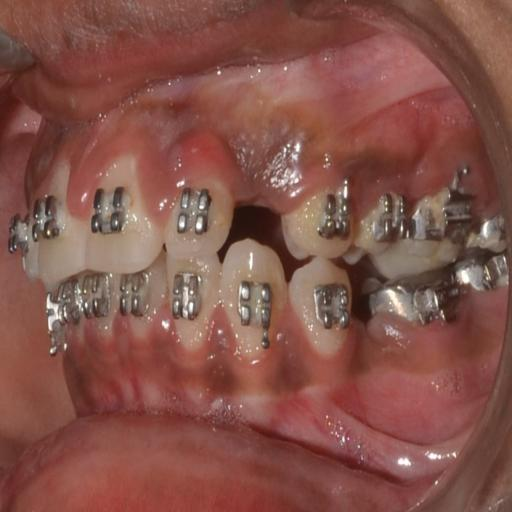correct_brace: (274, 170, 354, 254), (231, 275, 273, 341), (88, 178, 132, 238), (174, 180, 212, 238)
incorrect_brace: (81, 150, 164, 278), (320, 191, 352, 240)
